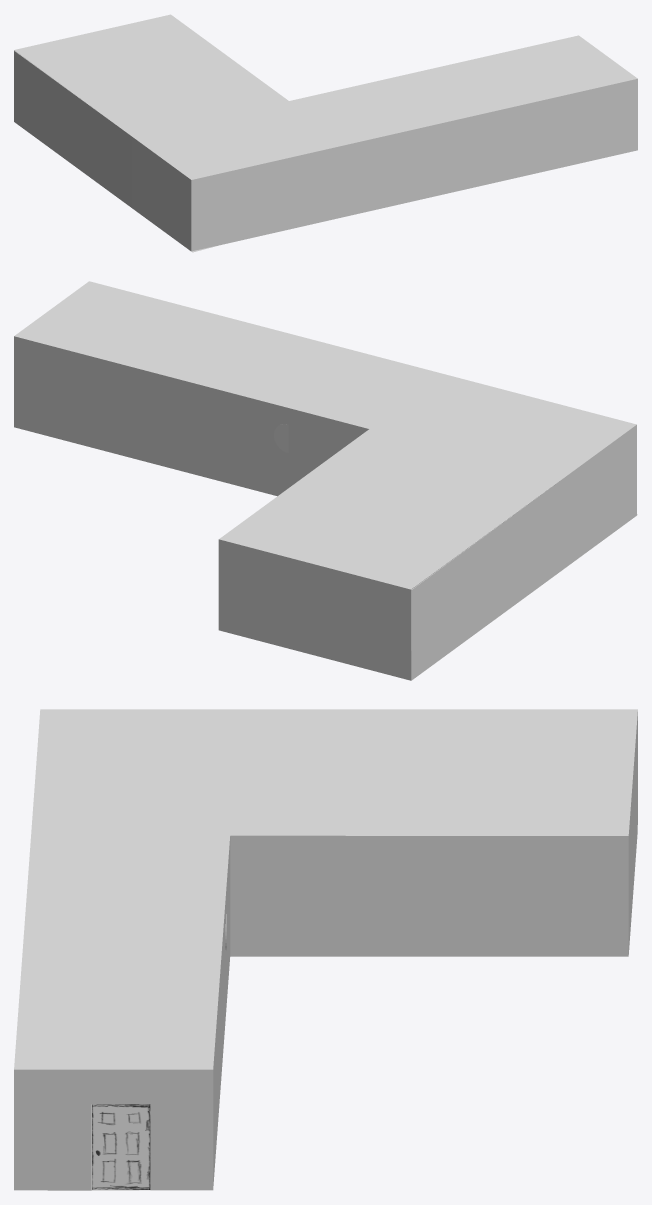
The model's file is House.fbx.
3 views of the same model, one above another, from view 1: azimuth 30°, elevation 25°; view 2: azimuth 150°, elevation 25°; view 3: azimuth 270°, elevation 25° (orthographic). The views are drawn at different scales.
Parts seen in each view (by area): view 1: Room; view 2: Room; view 3: Room, Door.001.
Part boxes in pixels (x1,y1,x2,y2): Room: (14,14,637,252); Room: (14,281,637,680); Room: (14,709,637,1190); Door.001: (92,1104,150,1189).
Bounding box in the file's own units: 1290 × 206 × 943.
